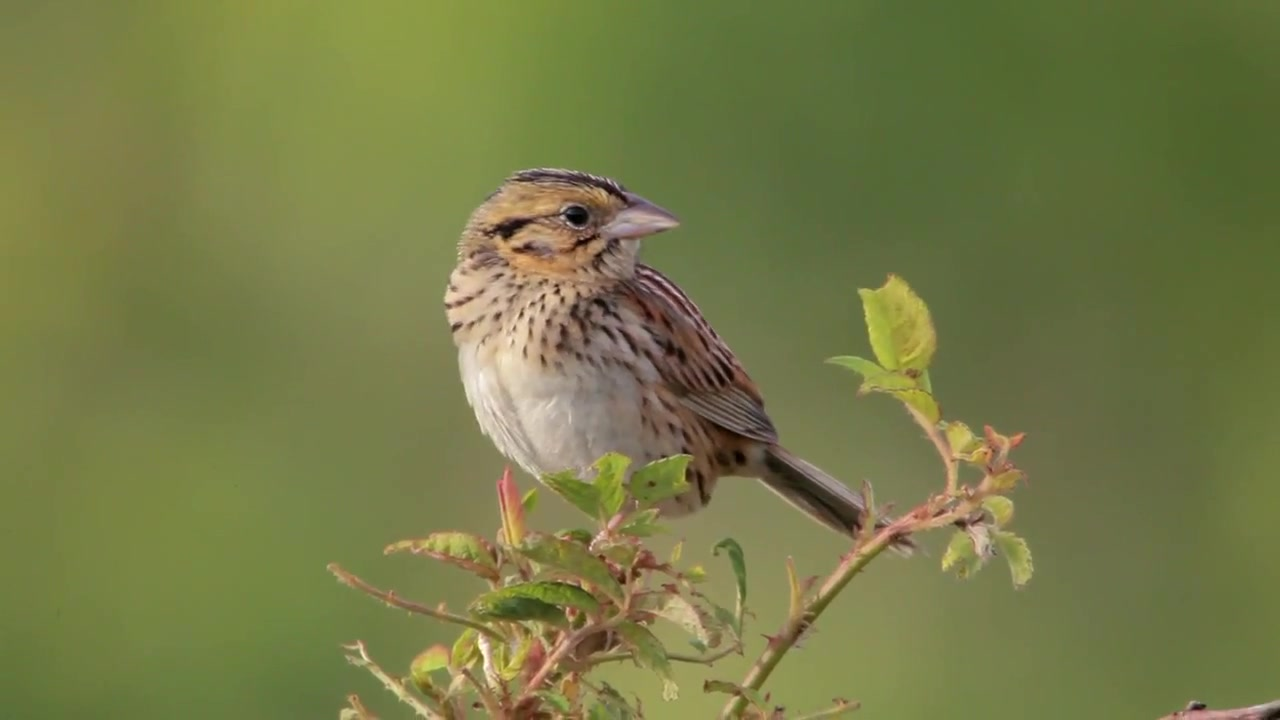bird: (444, 168, 918, 557)
